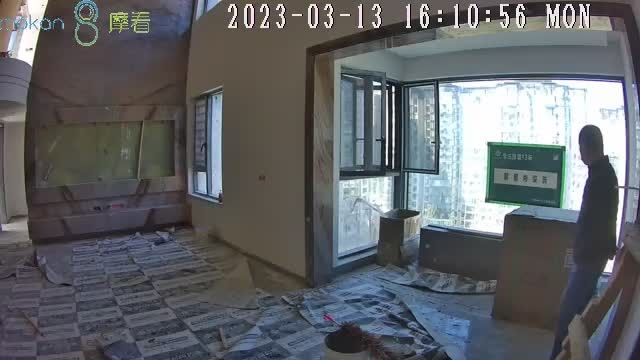people: (550, 124, 620, 359)
window: (339, 69, 628, 262)
